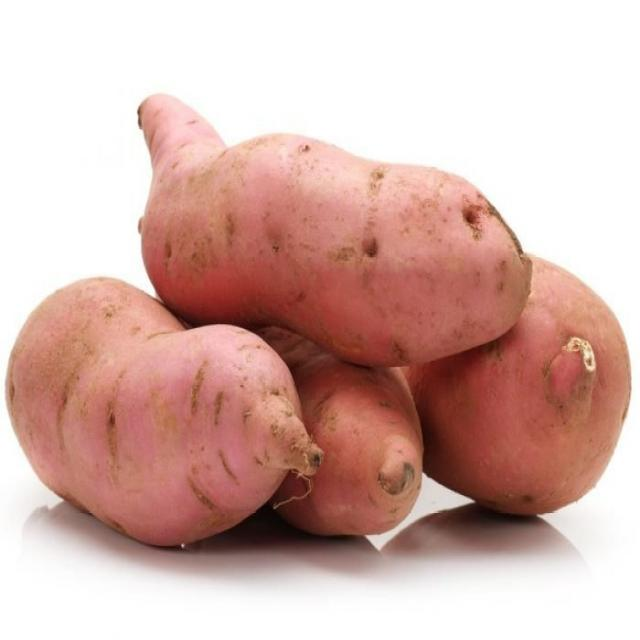Sweet Potato: (138, 90, 530, 337), (11, 279, 312, 547), (530, 264, 628, 528), (322, 370, 422, 536)
